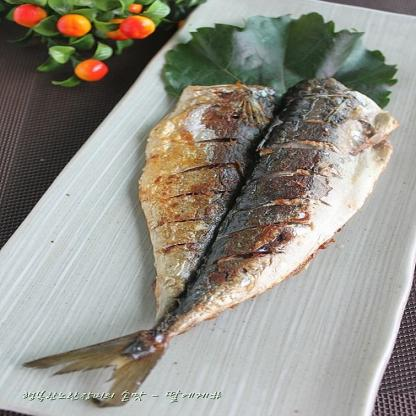Peixe: (18, 77, 402, 397)
